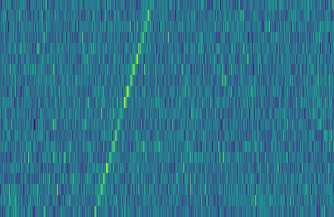signal: (88, 0, 157, 217)
